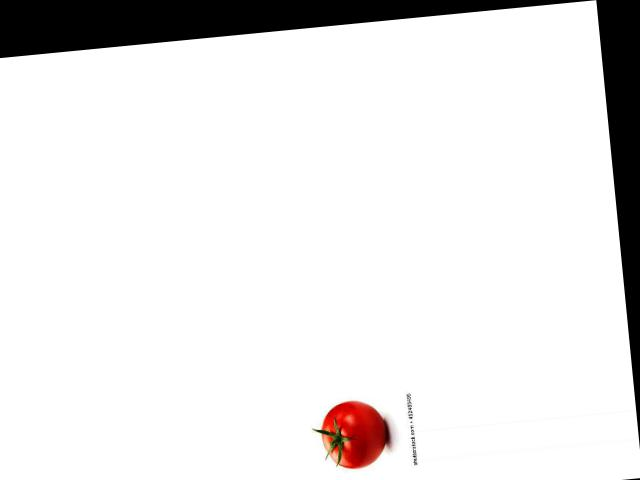tomato: (318, 398, 389, 470)
